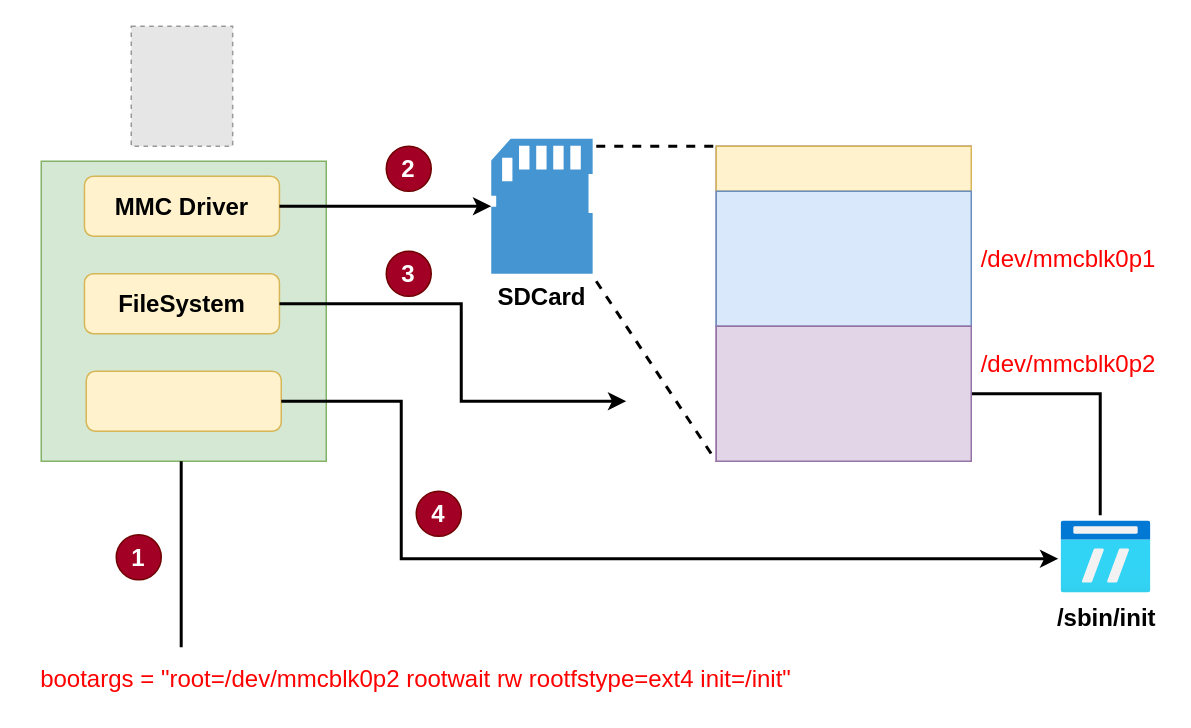
Some shapes in this 1191 by 728 pixel diagram are drawn without their labels. Grey dashed boxes stand in for pictures. Here are the shapes that lost their labels. From the top down, the box of each, then its label:
(715, 145, 971, 191): MBR
(715, 190, 971, 326): Partition 1 FAT32
(85, 370, 281, 431): kernel_execve()
(715, 325, 971, 461): Partition 2 ext 4
